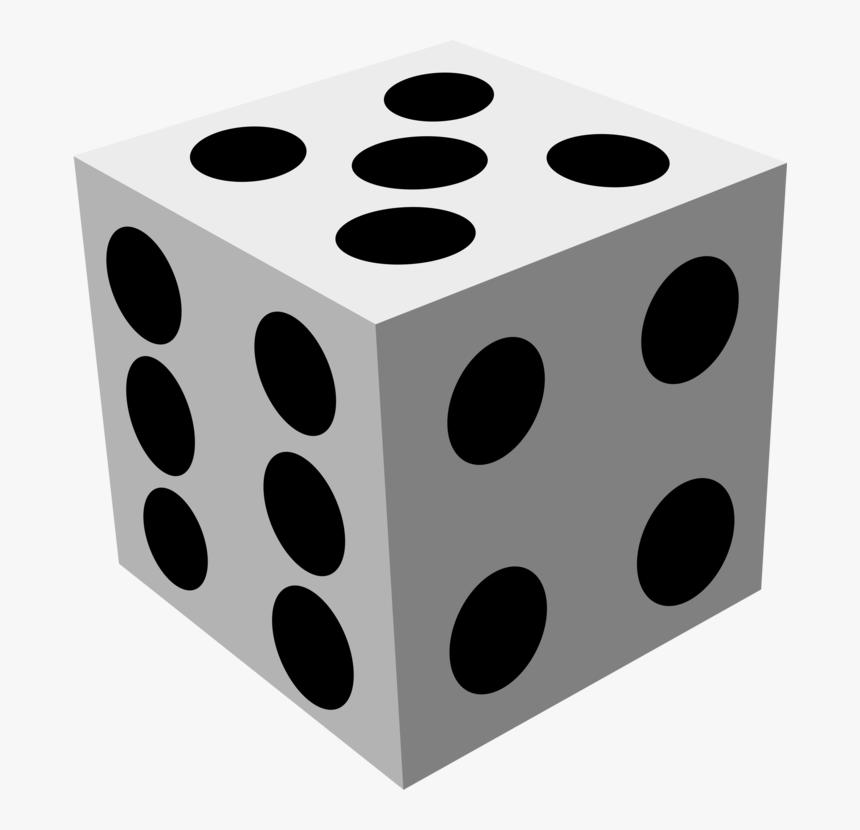cube: (74, 44, 792, 789)
